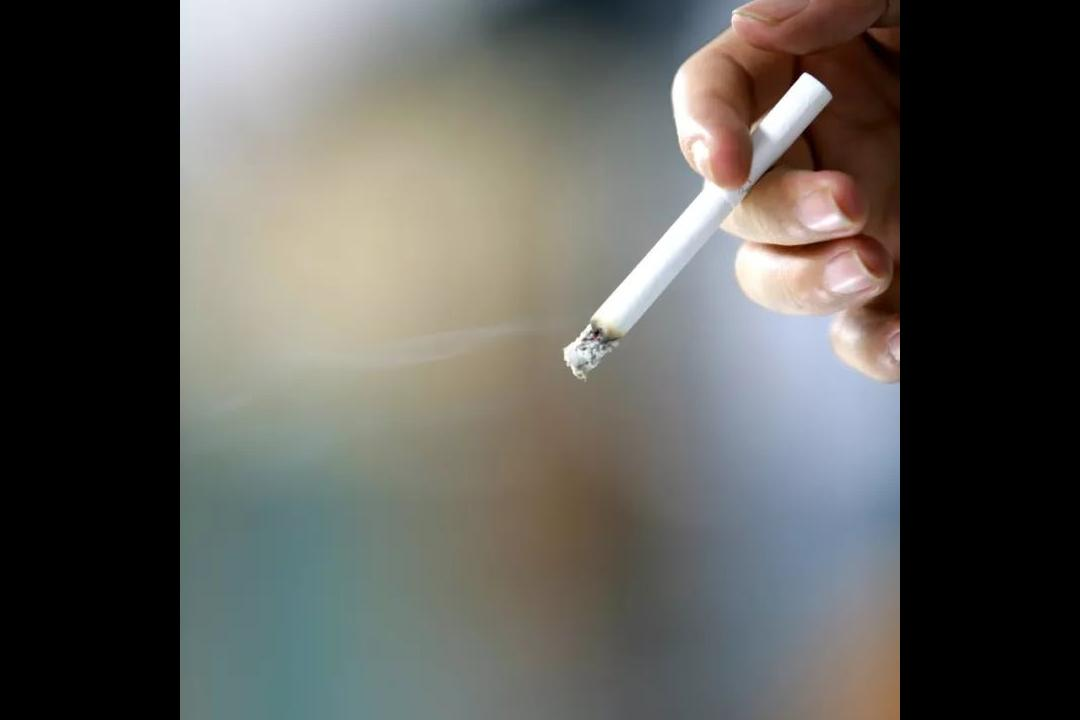Cigarette: (557, 74, 830, 375)
